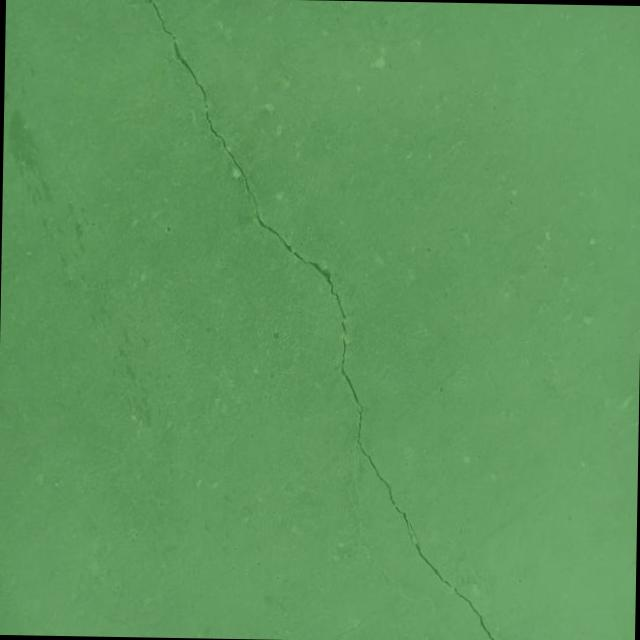crack: (128, 0, 507, 640)
